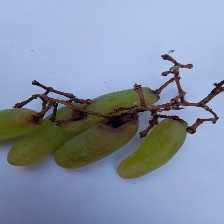grapes: (13, 36, 204, 200)
